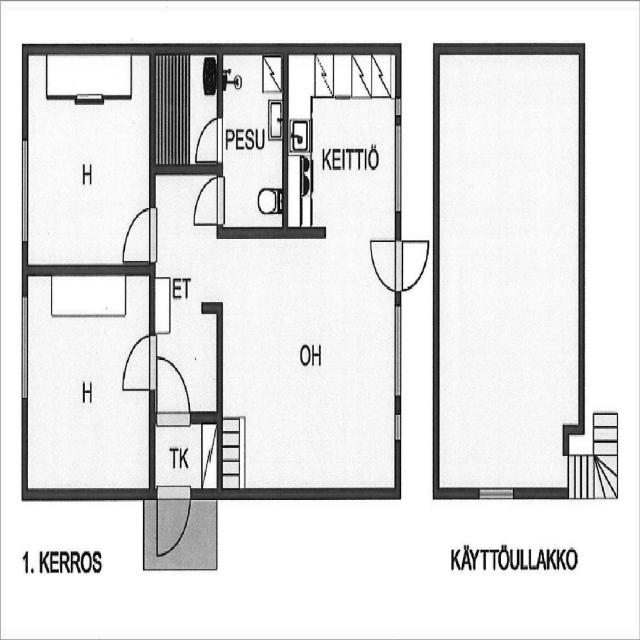door: (442, 51, 578, 506), (222, 235, 398, 490), (23, 271, 153, 489), (23, 50, 150, 272), (286, 45, 399, 240), (152, 167, 220, 414), (222, 47, 285, 237), (151, 275, 216, 416), (150, 51, 222, 167)
window: (394, 93, 404, 213), (396, 302, 404, 443), (473, 485, 519, 507)
zone: (368, 236, 430, 296), (155, 484, 189, 556), (153, 354, 190, 419), (122, 210, 158, 263), (192, 172, 223, 225), (123, 341, 151, 393), (196, 113, 220, 165)
